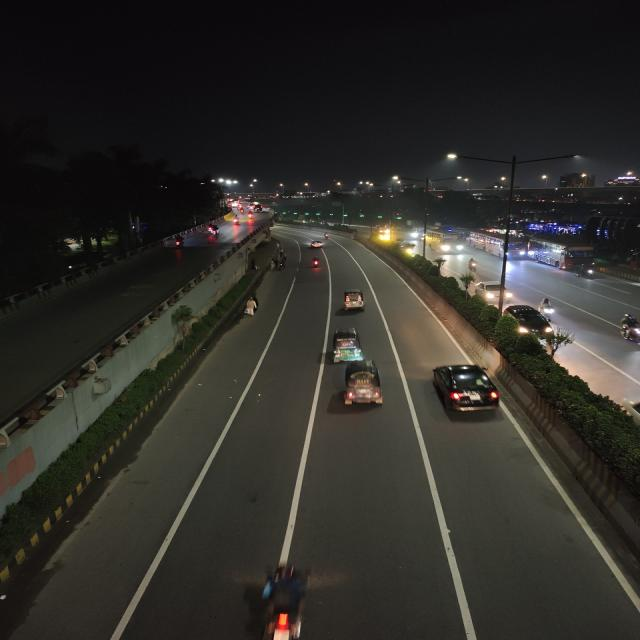bus: (533, 240, 591, 268), (486, 234, 526, 260), (427, 229, 465, 255)
car: (424, 358, 509, 422), (507, 305, 556, 343), (478, 280, 518, 310), (309, 240, 325, 250), (252, 204, 264, 212)
cng: (337, 358, 394, 412), (326, 328, 366, 364), (340, 288, 370, 312)
motorcycle: (539, 299, 560, 321), (572, 264, 597, 281), (466, 257, 481, 275), (310, 255, 323, 270), (174, 234, 186, 249), (246, 210, 257, 222), (210, 225, 218, 238), (323, 231, 333, 241), (232, 214, 240, 225), (239, 207, 246, 216)
pedestrian: (246, 295, 257, 318), (277, 258, 285, 272), (268, 259, 274, 271), (273, 258, 278, 270), (281, 252, 287, 262), (278, 247, 285, 254)
